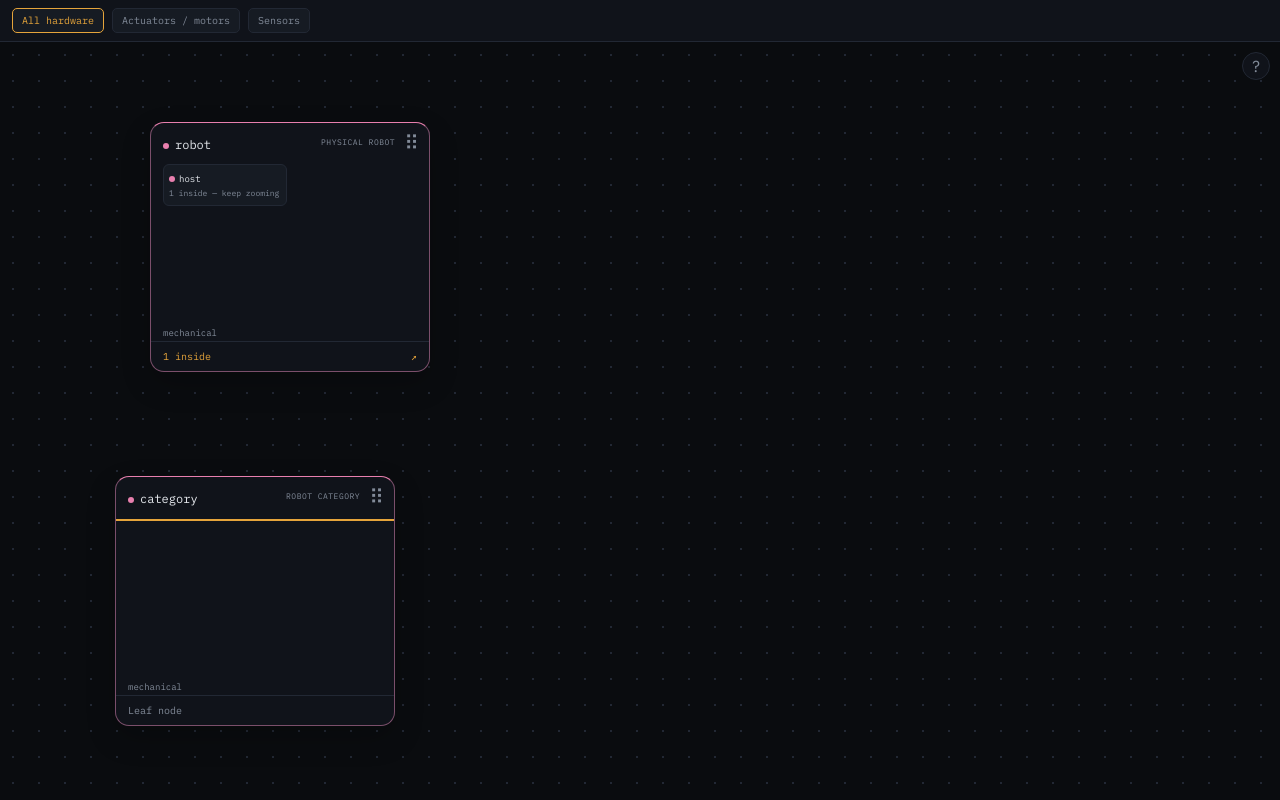
Test case: renders real API topology through the existing navigator, preserving ancestors under category filtering
The width and height of the screenshot is (1280, 800).
Click the button "Actuators / motors" at coordinates (176, 20), box x1=112 y1=8 x2=240 y2=33
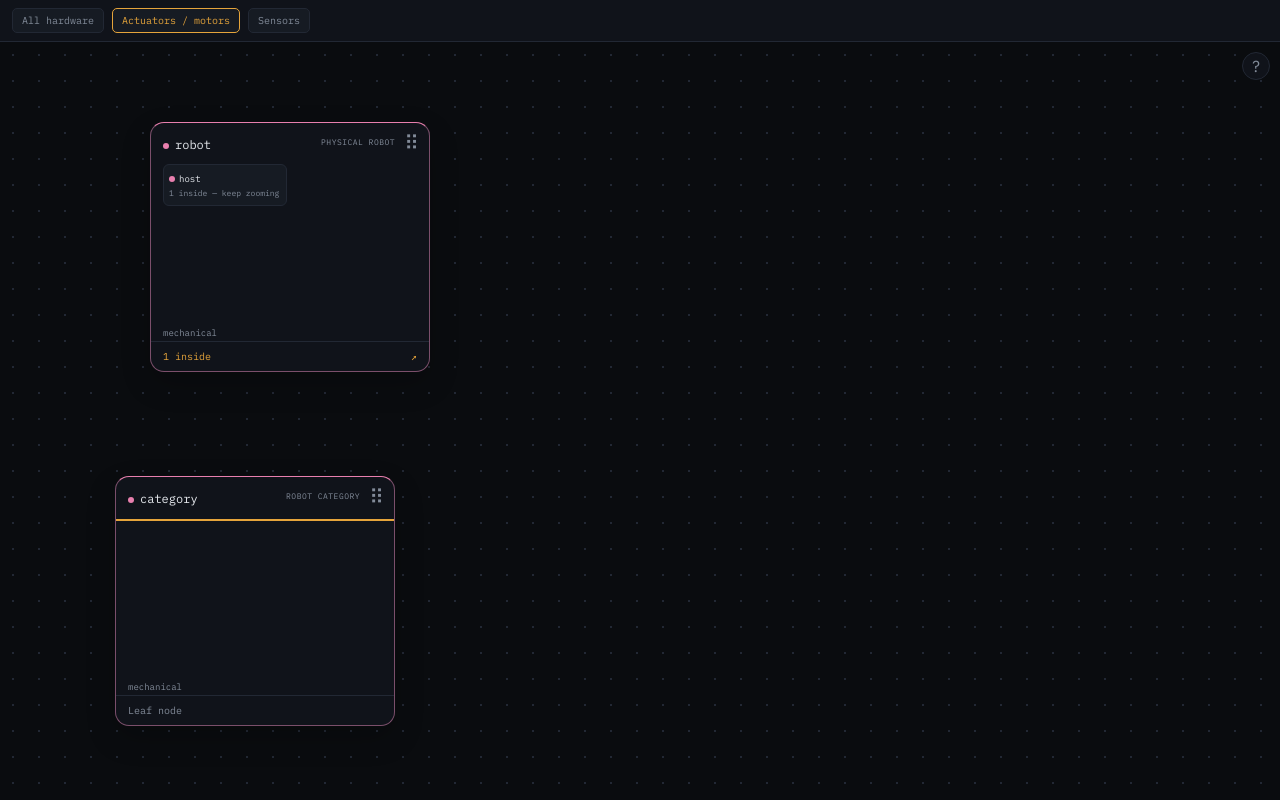
Double-click the button "robot physical robot" at coordinates (193, 144), box x1=151 y1=123 x2=429 y2=162
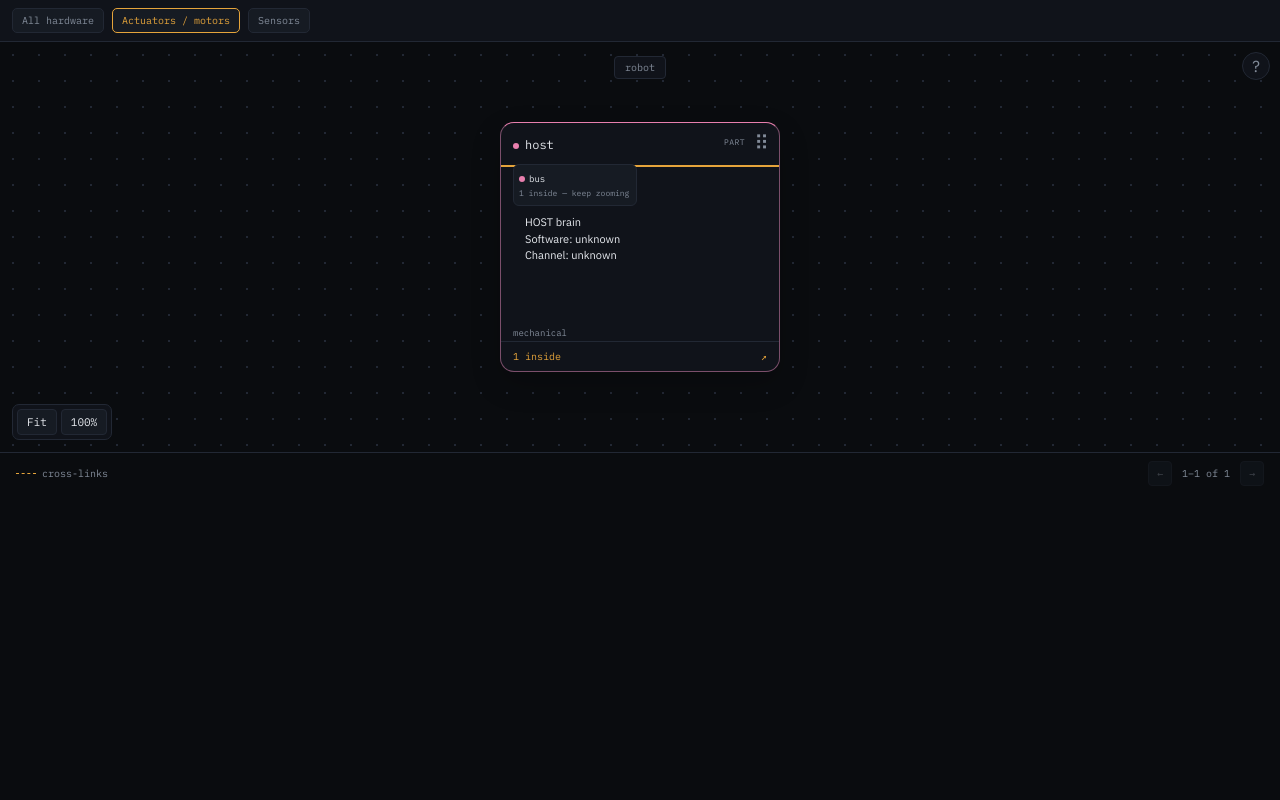
Double-click the button "host part" at coordinates (516, 146), box x1=501 y1=123 x2=779 y2=162
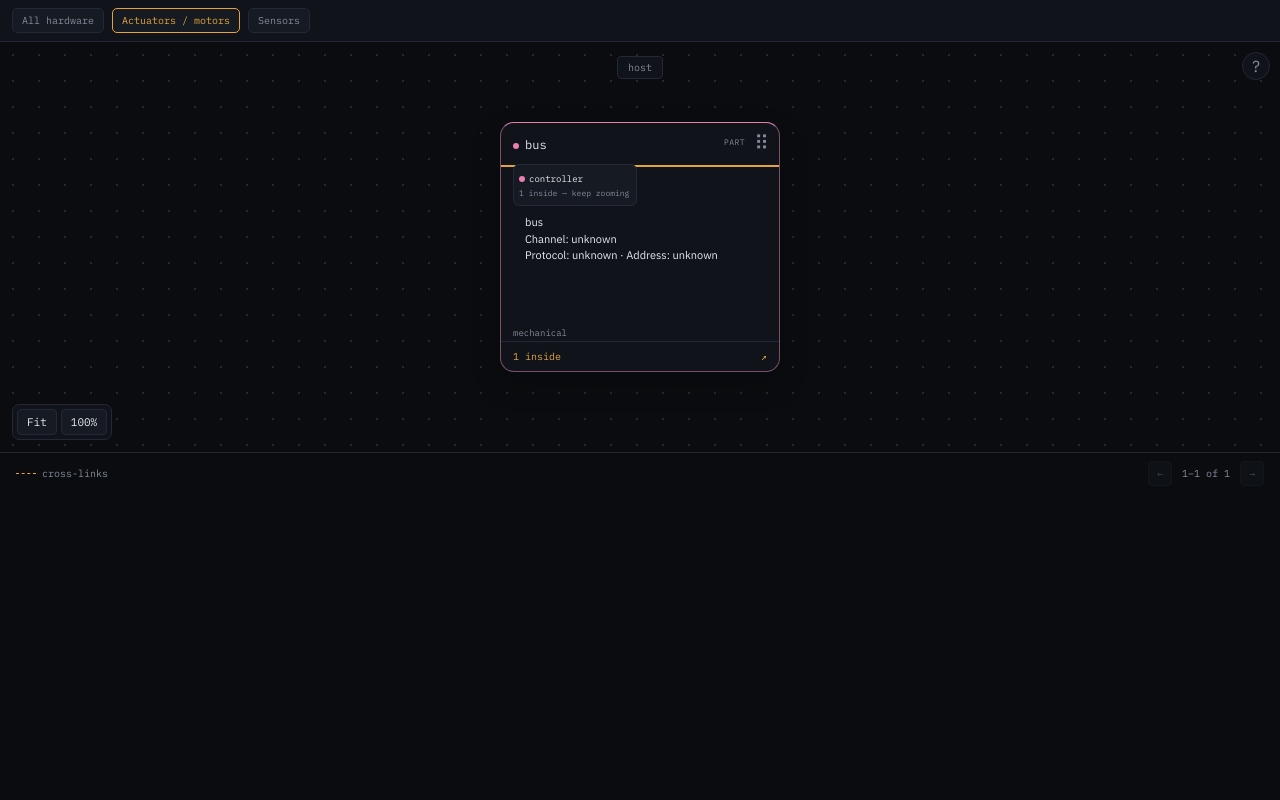
Double-click the button "bus part" at coordinates (516, 146), box x1=501 y1=123 x2=779 y2=162
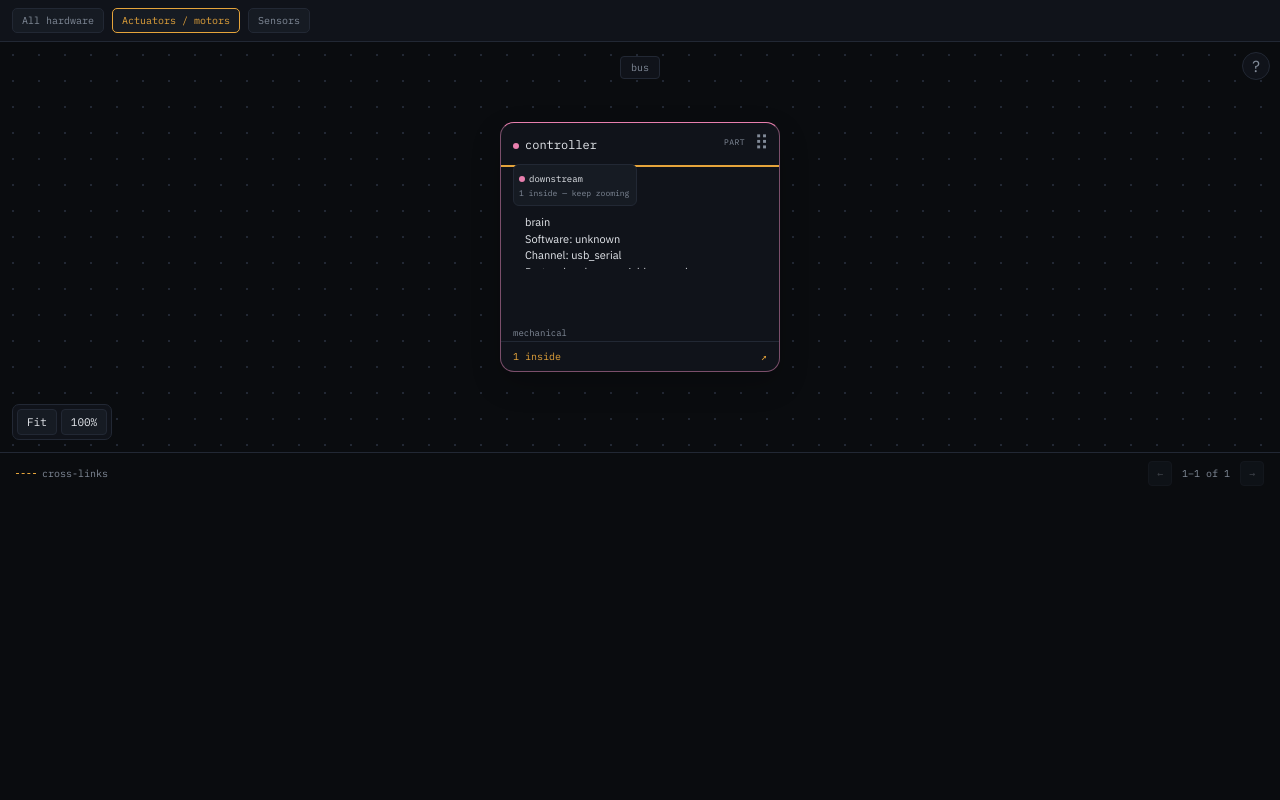
Expected: the number of elements with test id "graph-node-controller" is 1, x1=500 y1=122 x2=780 y2=372
Double-click the button "controller part" at coordinates (561, 144), box x1=501 y1=123 x2=779 y2=162
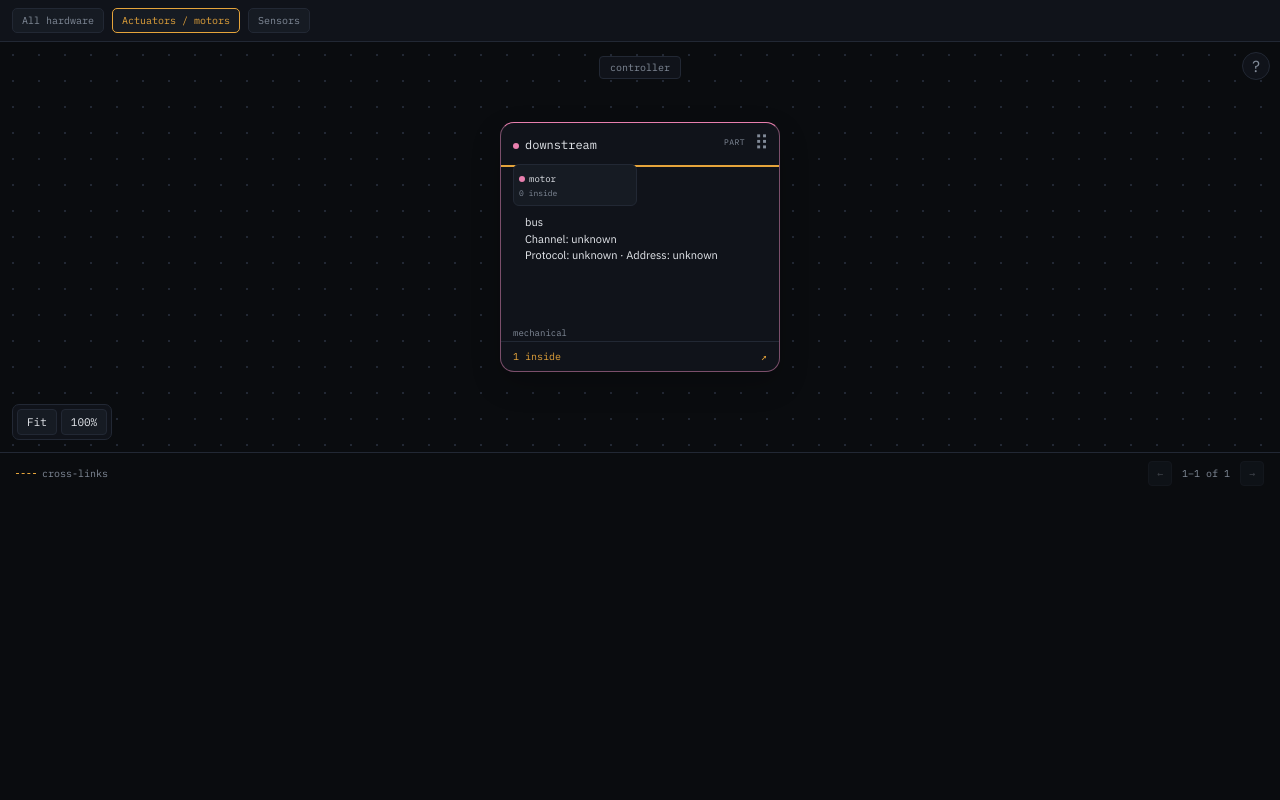
Double-click the button "downstream part" at coordinates (561, 144), box x1=501 y1=123 x2=779 y2=162
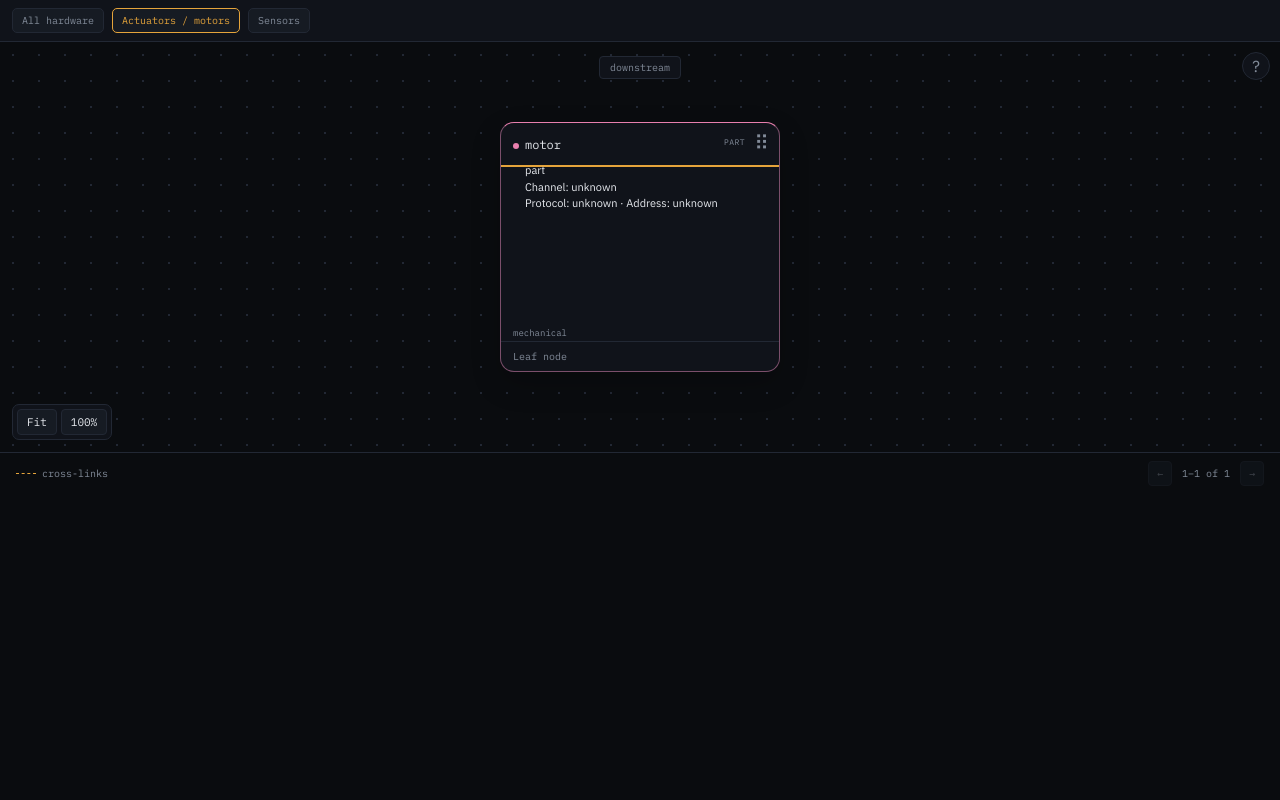
Expected: the element with test id "graph-node-motor" is shown, x1=500 y1=122 x2=780 y2=372
